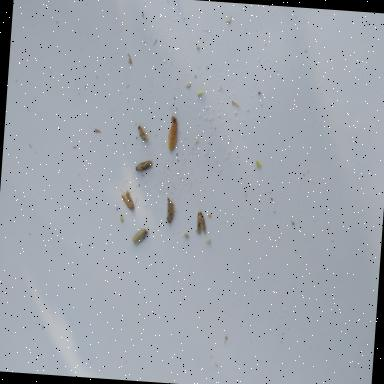pbw: (118, 188, 137, 211), (164, 196, 178, 226), (194, 208, 208, 234), (130, 226, 148, 246), (134, 158, 152, 174), (136, 123, 149, 142)
